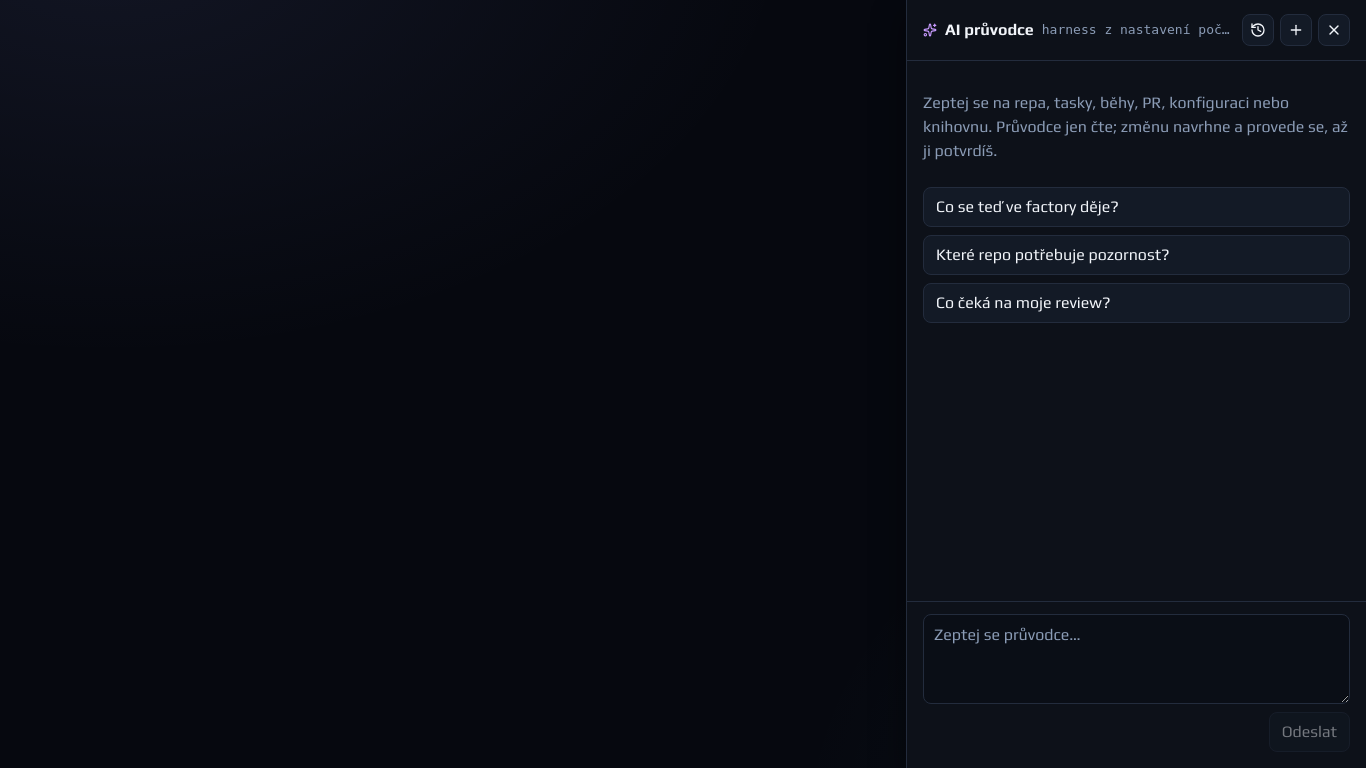
Test: AssistantPanel › shows an answer that failed and a refused message
Type "Ahoj" into the text box with test id "assistant-input".
click(1136, 659); type("Ahoj")  # box [923,614,1350,704]
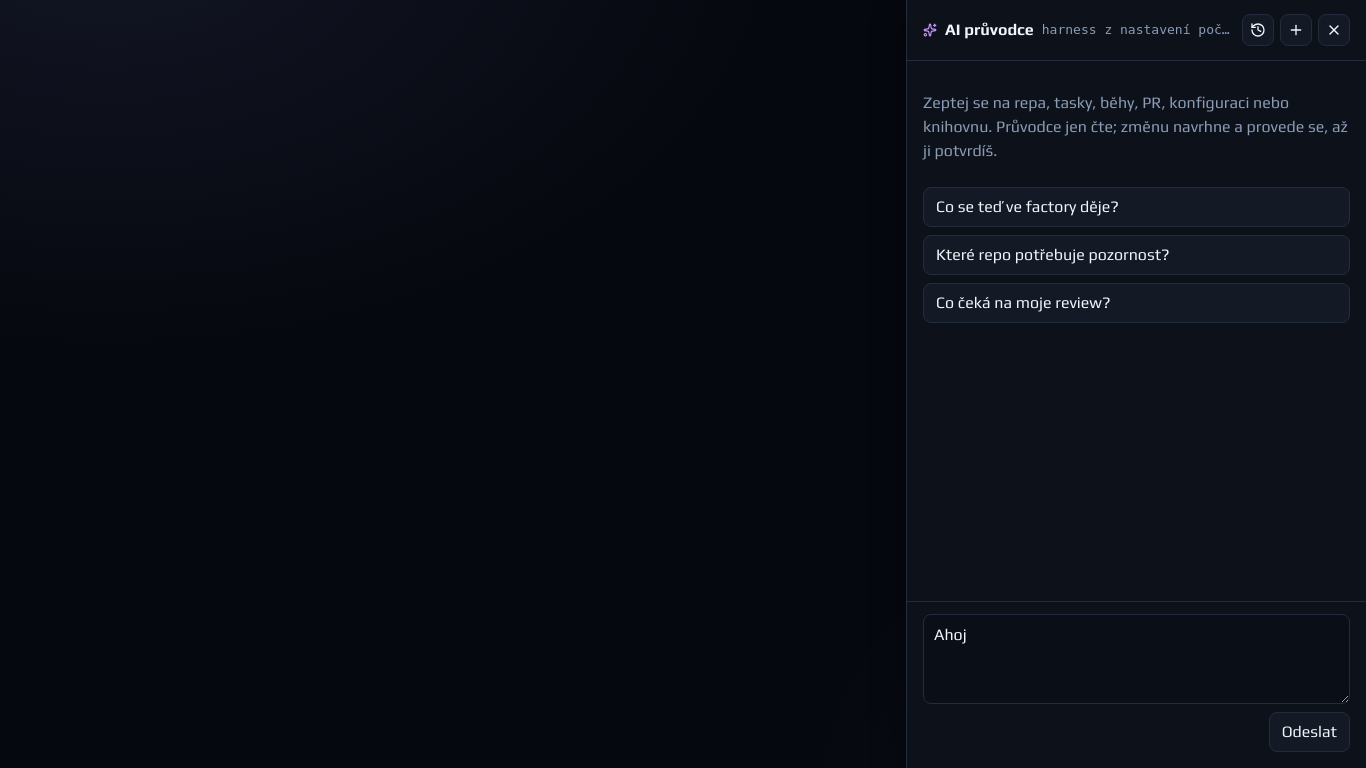
Submit the form, box [907,601,1365,767]
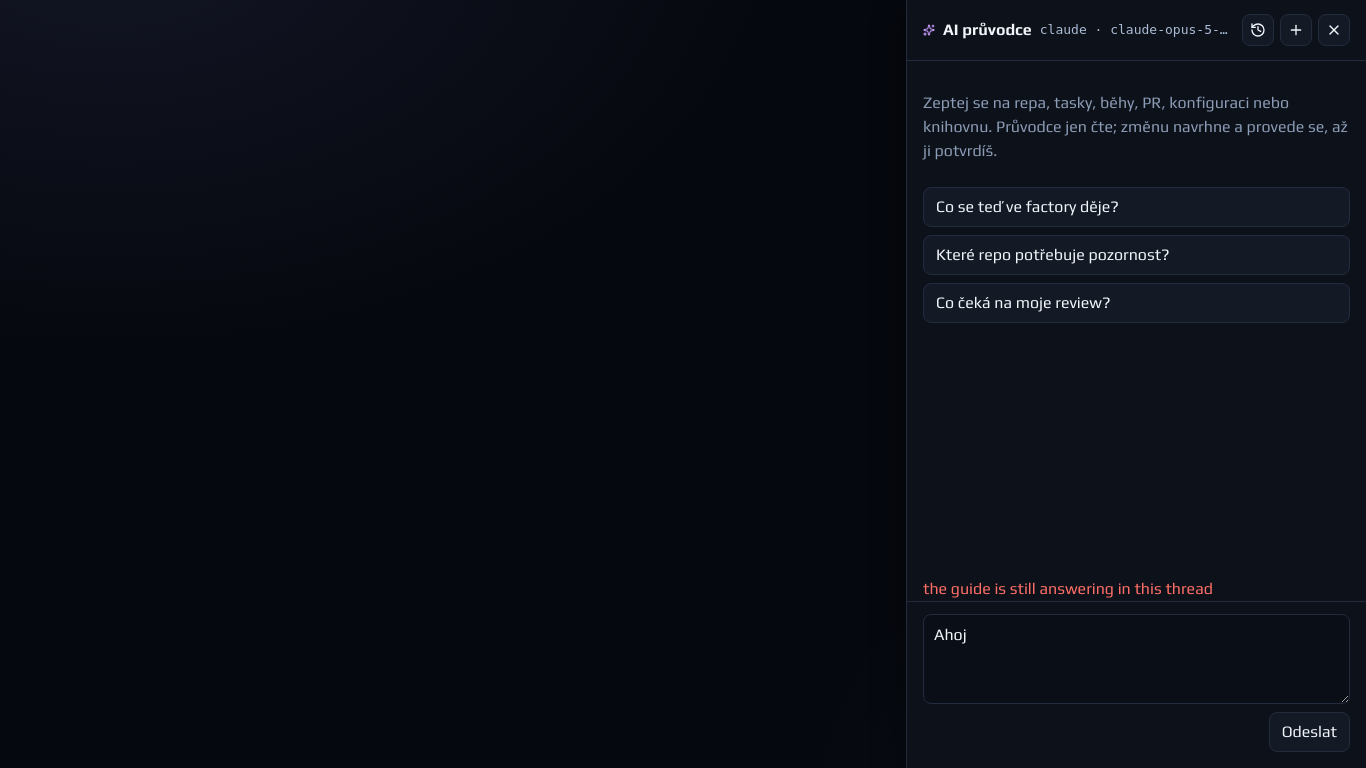
expect the text with test id "assistant-error" shows "still answering": met, box [923,579,1213,598]
